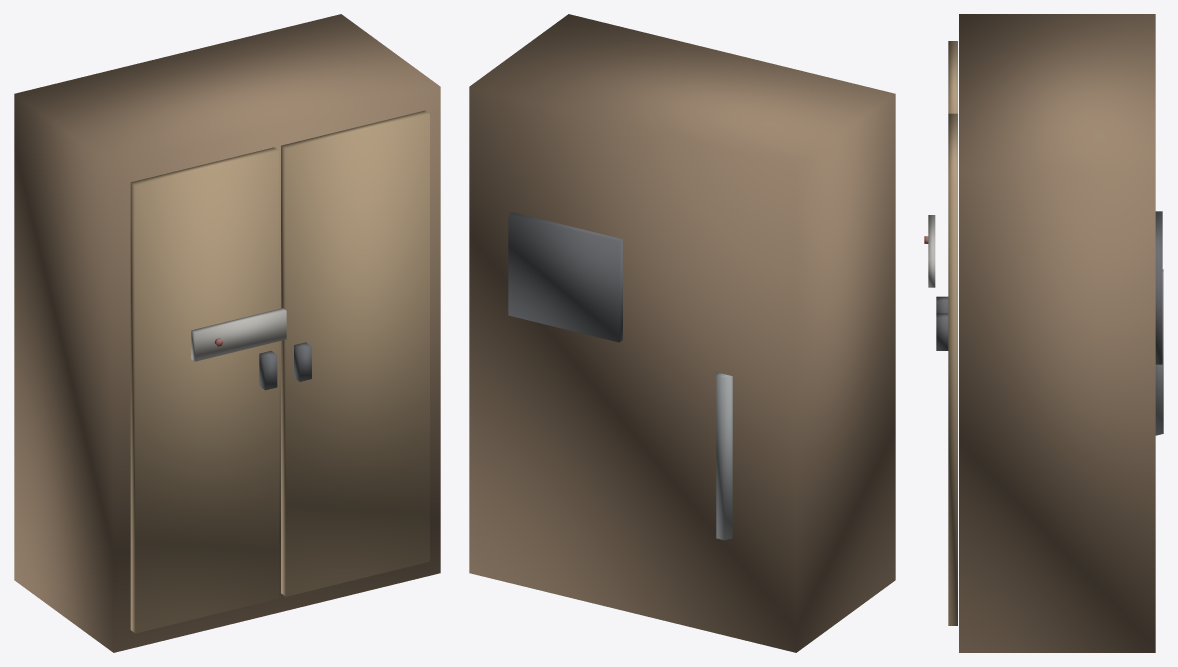
The model's file is dental_instrument_cabinet__service.glb.
3 views of the same model, side by side, from view 1: azimuth 30°, elevation 25°; view 2: azimuth 150°, elevation 25°; view 3: azimuth 270°, elevation 25° (orthographic).
Visible parts, largest first — view 1: world; view 2: world; view 3: world.
Part boxes in pixels (x1,y1,x2,y2): world: [14, 14, 440, 652]; world: [469, 14, 895, 652]; world: [924, 14, 1163, 652].
Size of the model in its own units: 0.95 by 1.35 by 0.6091.
